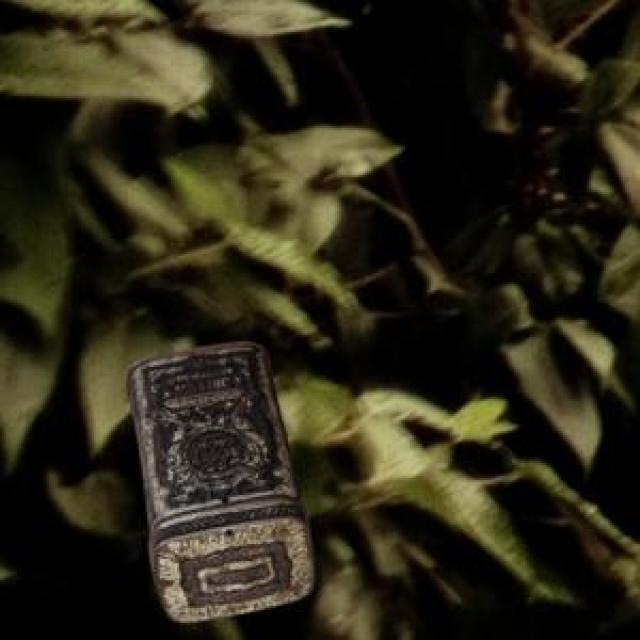Can: (125, 338, 310, 620)
